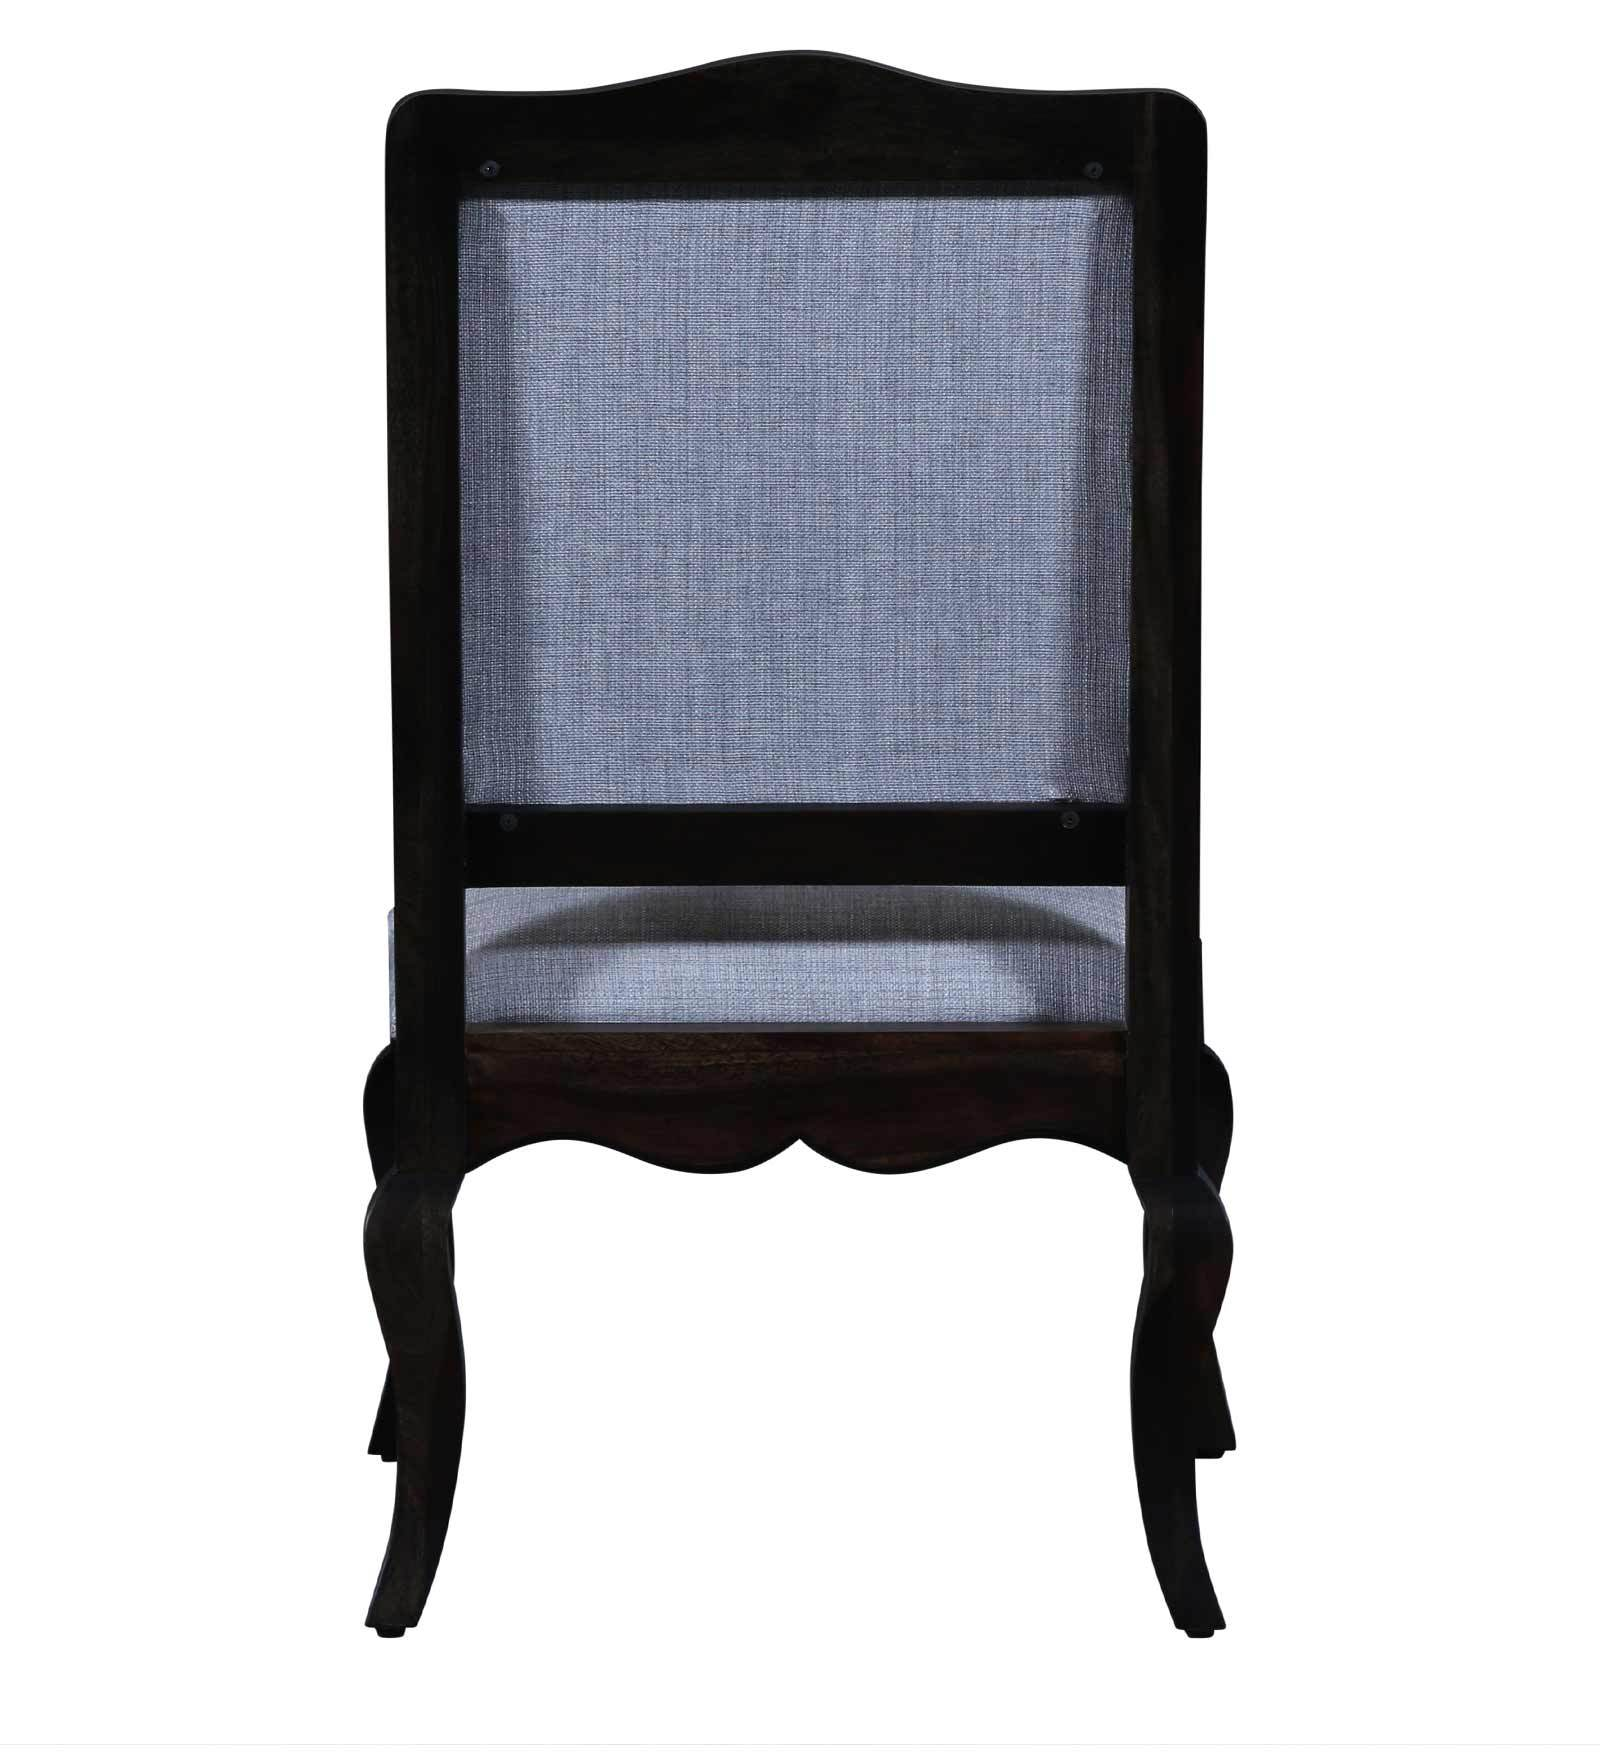Anne Arm Chair in Warm Chestnut Finish by Amberville: (290, 26, 1298, 1656)
